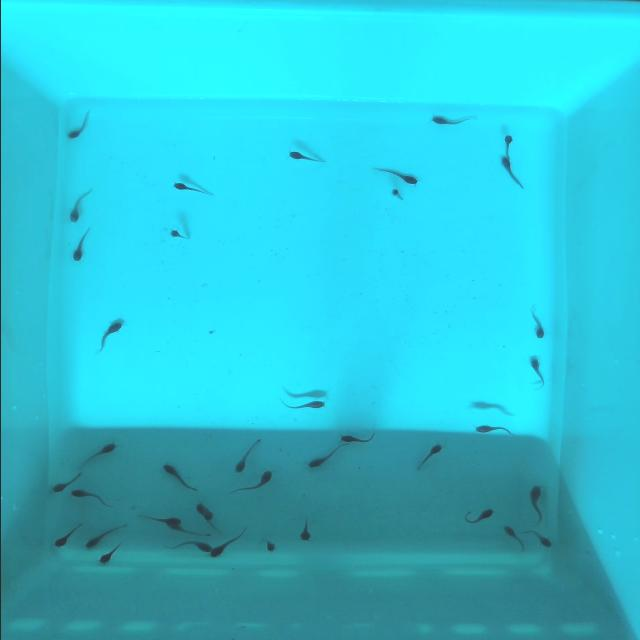lele: (86, 318, 125, 358), (229, 469, 275, 501), (73, 440, 120, 471), (228, 436, 264, 475), (203, 528, 245, 561), (302, 441, 346, 472), (158, 461, 196, 494), (80, 524, 128, 550), (64, 185, 93, 224), (372, 163, 419, 187), (66, 487, 115, 509), (67, 225, 94, 264), (64, 109, 94, 144), (496, 156, 525, 192), (47, 470, 85, 496), (50, 522, 84, 550), (93, 538, 125, 567), (412, 442, 444, 471), (498, 523, 528, 553), (518, 524, 554, 549), (459, 506, 498, 529), (191, 502, 219, 534), (168, 180, 215, 199), (163, 522, 209, 541), (158, 539, 212, 554), (284, 149, 326, 168), (273, 397, 325, 412), (134, 511, 182, 527), (528, 305, 545, 341), (527, 358, 546, 389), (527, 484, 542, 522), (471, 424, 516, 436), (256, 535, 279, 556), (428, 116, 476, 126), (164, 227, 191, 244), (498, 130, 514, 158), (295, 517, 311, 541), (339, 434, 376, 444), (387, 187, 405, 204), (200, 497, 213, 520)
